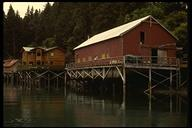house: (76, 14, 181, 69), (17, 43, 66, 67)
tree: (9, 3, 82, 41)
water: (6, 87, 188, 124)
